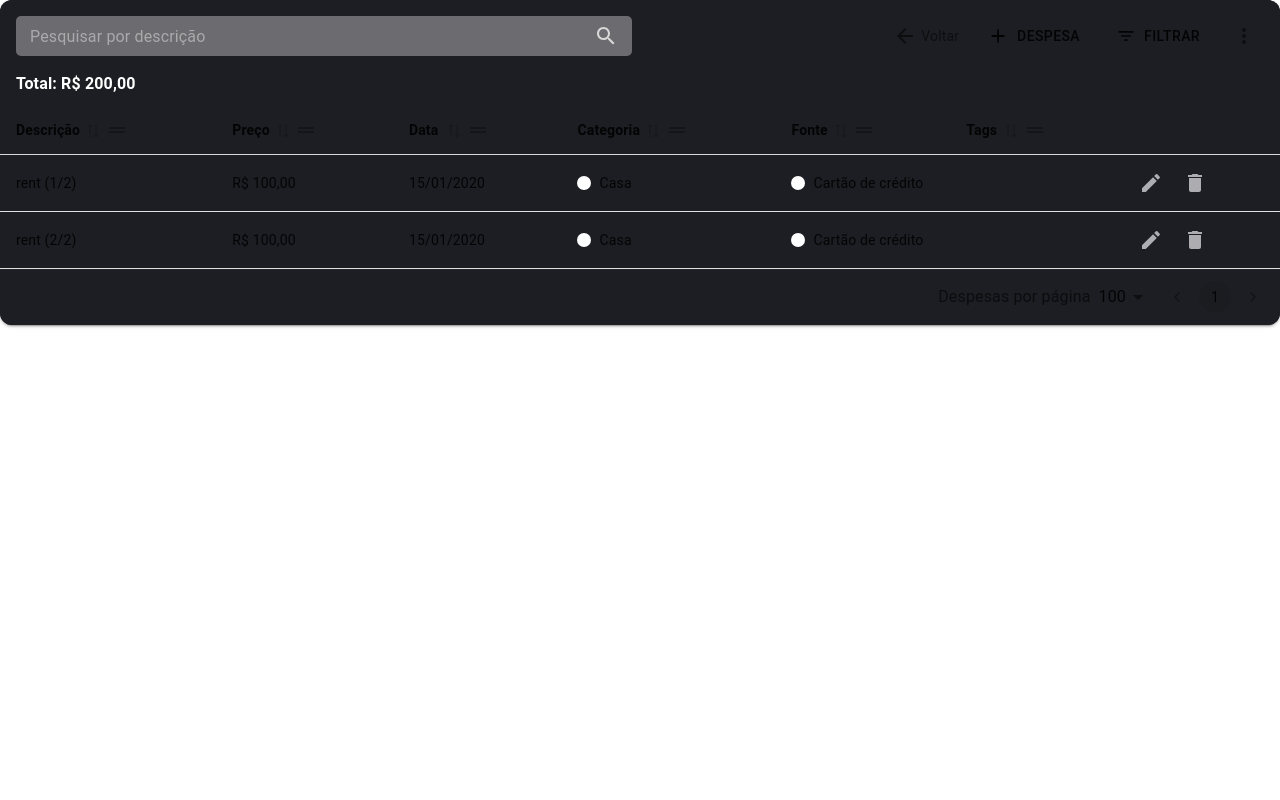
plain installment rows retain the group warning and deletion refreshes the count
Expected: the text "rent (1/2)" is shown, [0, 155, 216, 212]
Click the button named "Deletar" in the row of "rent (1/2)".
click(1195, 183)  # box [1175, 163, 1215, 203]
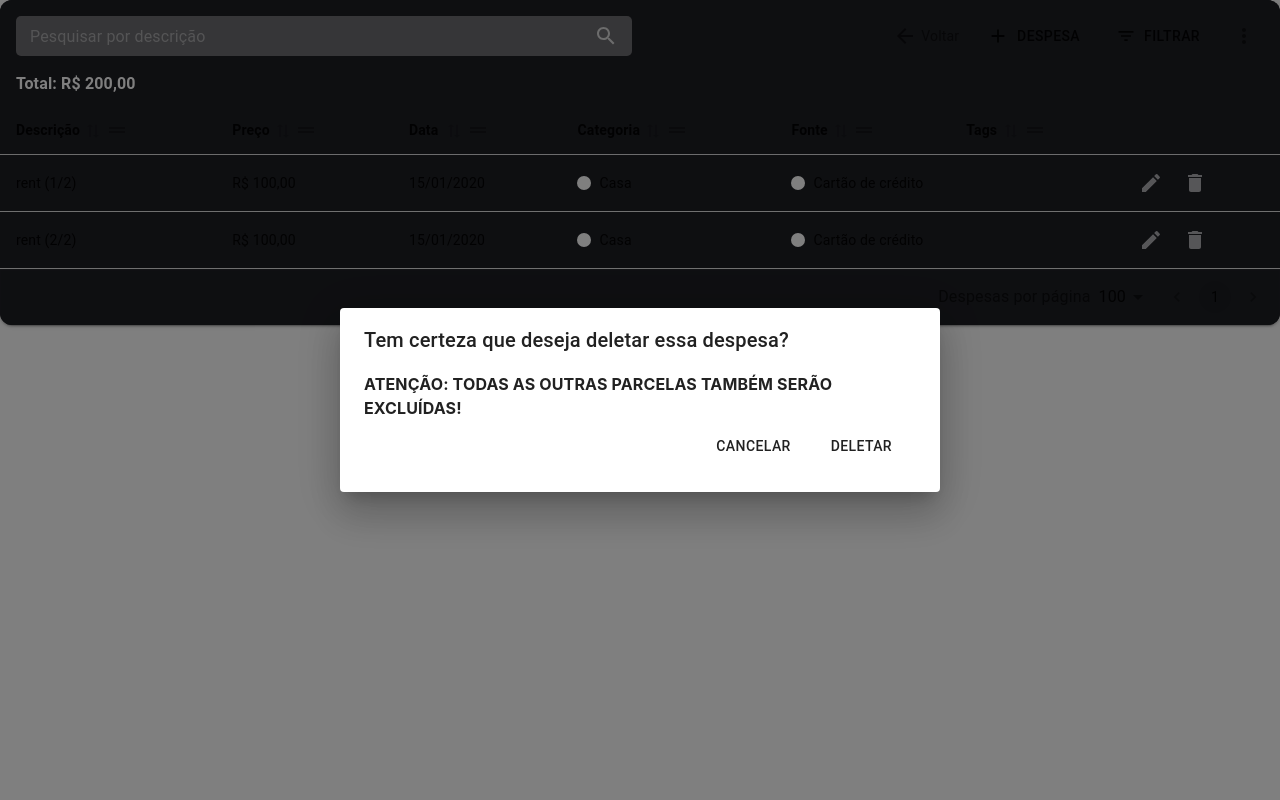
Now the text "ATENÇÃO: TODAS AS OUTRAS PARCELAS TAMBÉM SERÃO EXCLUÍDAS!" is shown, box [364, 374, 832, 418]
Click the button "Deletar".
click(861, 446)  # box [815, 428, 908, 464]
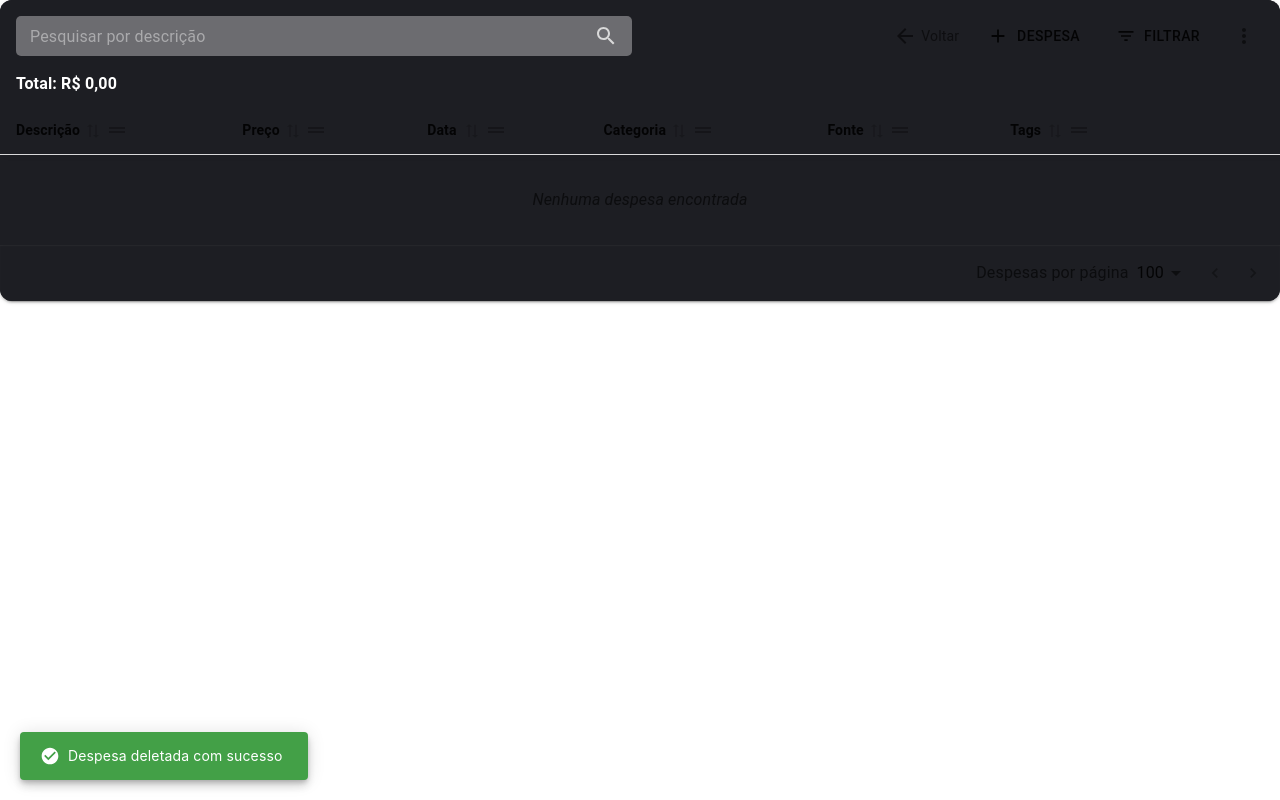
Now the text "Total: R$ 0,00" is shown, box [16, 74, 117, 93]
